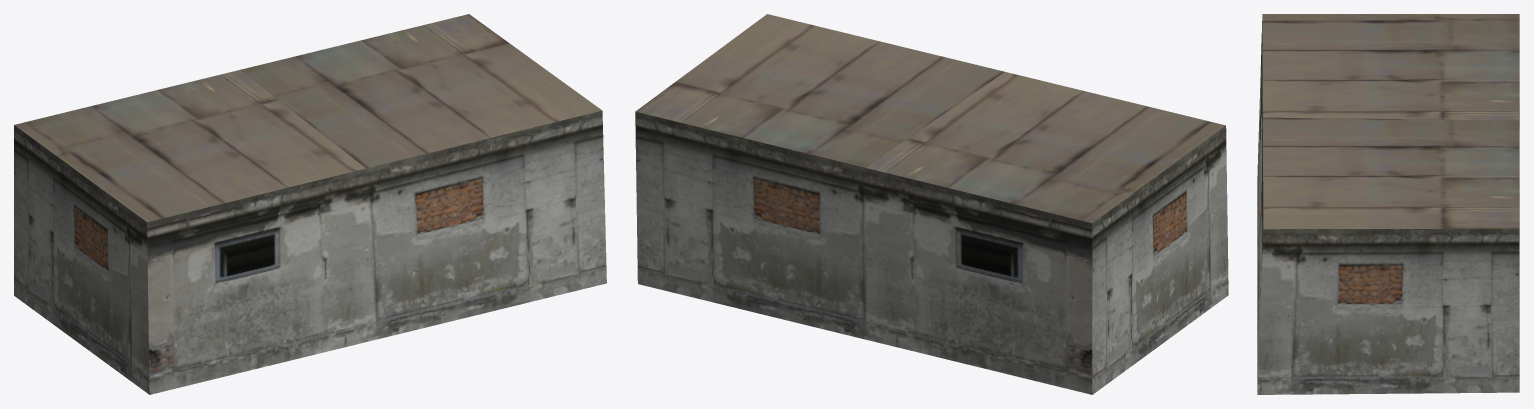
The model's file is barrack2.fbx.
The picture shows the model from 3 angles, left to right: view 1: azimuth 30°, elevation 25°; view 2: azimuth 150°, elevation 25°; view 3: azimuth 270°, elevation 25°; orthographic projection. The views are drawn at different scales.
Visible parts, largest first — view 1: barrack02; view 2: barrack02; view 3: barrack02.
Part boxes in pixels (left/top/right/bottom): barrack02: left=14, top=14, right=606, bottom=394; barrack02: left=635, top=14, right=1228, bottom=394; barrack02: left=1257, top=14, right=1519, bottom=394.
Bounding box in the file's own units: 731 × 261 × 376.
Materials: 1 (1 with a texture image).
